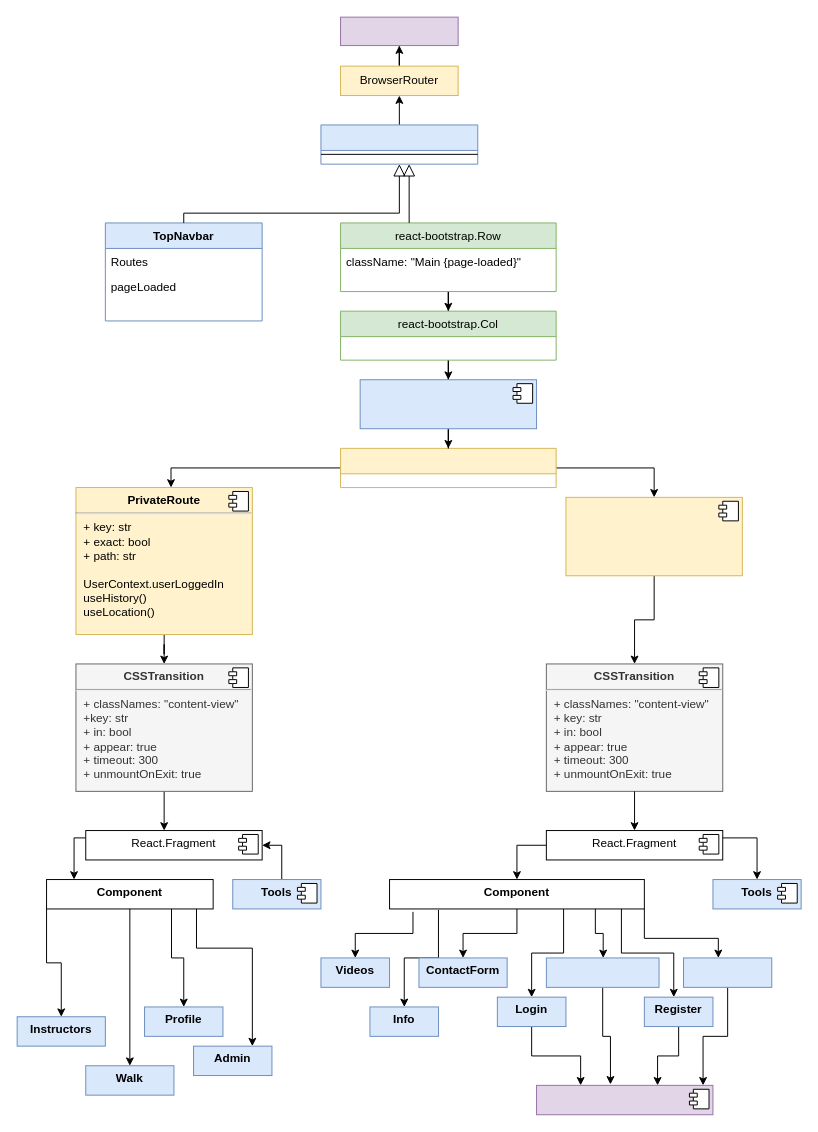
Image size: 818x1132. Some labels were removed from this diagram. Each missing label, with the centre of its shape:
JoinCourse: [727,972]
Main: [399,144]
MainPage: [448,404]
react-router-dom.Switch: [448,467]
ResetPassword: [602,972]
Route + key: str + exact: bool + path: str: [653,536]
UserProvider: [399,31]
withRecaptcha: [624,1099]
